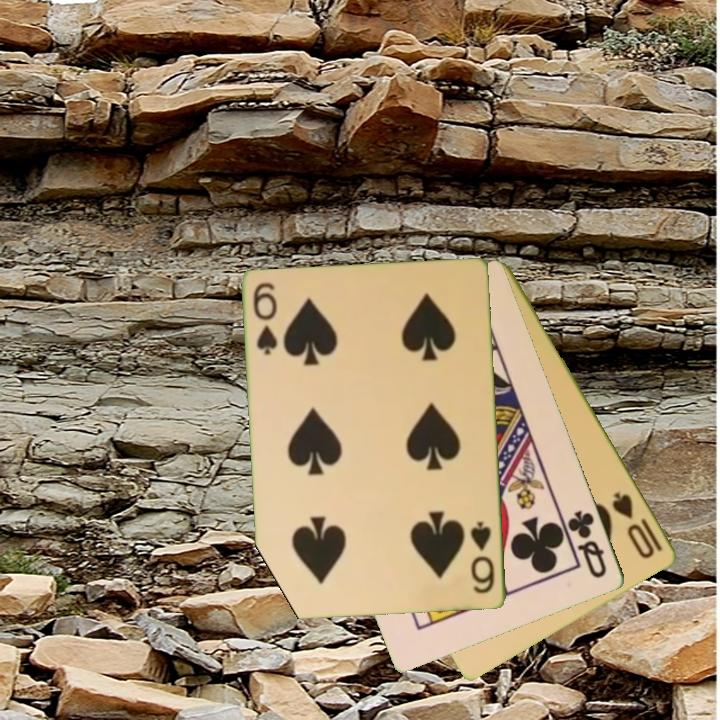10s: (608, 488, 658, 562)
6s: (250, 279, 281, 359), (467, 518, 498, 597)
Qc: (564, 506, 610, 582)
